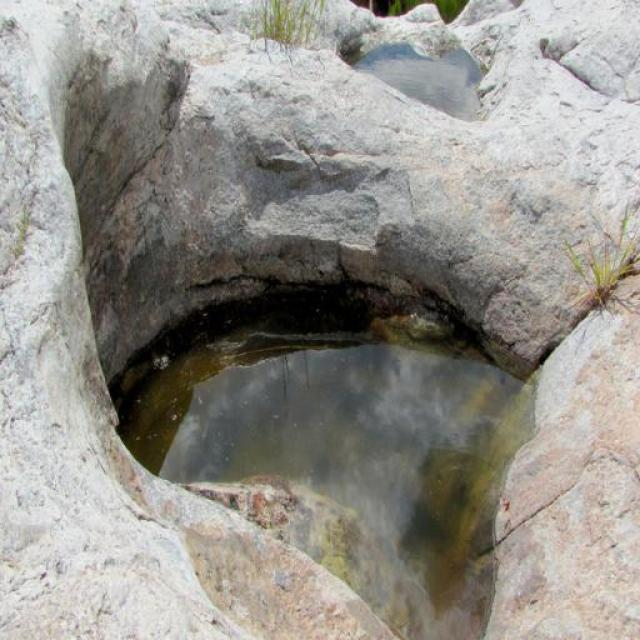puddle: (145, 275, 560, 568), (349, 14, 524, 141)
